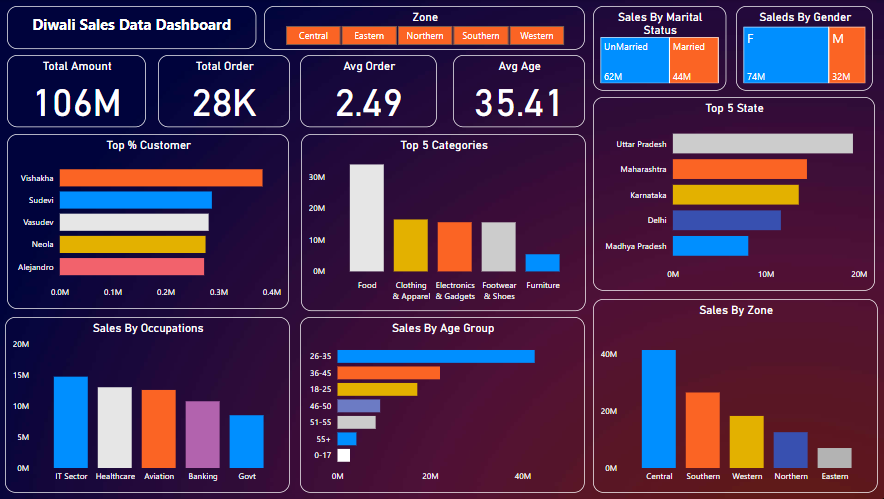

What the dashboard file says about the page in this screenshot:
{"tool":"powerbi","page":{"name":"Page 1","canvas":[1280,720],"ordinal":0},"visuals":[{"type":"clusteredColumnChart","title":"Sales By Zone","fields":{"Y":["Diwali Sales Data.Amount"],"Category":["Diwali Sales Data.Zone"]},"box":[859.7,432,410.4,279.4],"z":0},{"type":"clusteredBarChart","title":"Top 5 State","fields":{"Category":["Diwali Sales Data.State"],"Y":["Diwali Sales Data.Amount"]},"box":[859.7,141.1,406.1,279.4],"z":1000},{"type":"clusteredBarChart","title":"Sales By Age Group","fields":{"Category":["Diwali Sales Data.Age Group"],"Y":["Diwali Sales Data.Amount"]},"box":[437.8,457.9,410.4,253.4],"z":2000},{"type":"clusteredColumnChart","title":"Sales By Occupations","fields":{"Y":["Diwali Sales Data.Amount"],"Category":["Diwali Sales Data.Occupation"]},"box":[13,457.9,410.4,253.4],"z":3000},{"type":"clusteredBarChart","title":"Top % Customer","fields":{"Category":["Diwali Sales Data.Cust_name"],"Y":["Diwali Sales Data.Amount"]},"box":[15.8,194.4,406.1,252],"z":4000},{"type":"clusteredColumnChart","title":"Top 5 Categories","fields":{"Y":["Diwali Sales Data.Amount"],"Category":["Diwali Sales Data.Product_Category"]},"box":[439.2,194.4,410.4,254.9],"z":5000},{"type":"treemap","title":"Saleds By Gender","fields":{"Group":["Diwali Sales Data.Gender"],"Values":["Diwali Sales Data.Amount"]},"box":[1065.6,10.1,197.3,122.4],"z":6000},{"type":"treemap","title":"Sales By Marital Status","fields":{"Values":["Diwali Sales Data.Amount"],"Group":["Diwali Sales Data.Marital_status2"]},"box":[859.7,10,191.5,122.4],"z":7000},{"type":"textbox","box":[15.8,10.1,358.6,61.9],"z":8000},{"type":"slicer","title":"Zone","fields":{"Values":["Diwali Sales Data.Zone"]},"box":[385.9,10.1,462.2,63.4],"z":9000},{"type":"card","title":"Total Amount","fields":{"Values":["Diwali Sales Data.Amount"]},"box":[15.8,80.6,200.2,103.7],"z":10000},{"type":"card","title":"Total Order","fields":{"Values":["Diwali Sales Data.Orders"]},"box":[233.3,80.6,190.1,103.7],"z":11000},{"type":"card","title":"Avg Order","fields":{"Values":["Diwali Sales Data.Orders"]},"box":[437.8,80.6,197.3,103.7],"z":12000},{"type":"card","title":"Avg Age","fields":{"Values":["Diwali Sales Data.Age"]},"box":[658.1,80.6,190.1,103.7],"z":13000}]}

Visuals, with their boxes in screenshot pixels (x1, y1, x2, y2), scaled from the page's 1280x720 canvas onto the 884x499 screenshot:
"Sales By Zone" clusteredColumnChart: locate(594, 299, 877, 493)
"Top 5 State" clusteredBarChart: locate(594, 98, 874, 291)
"Sales By Age Group" clusteredBarChart: locate(302, 317, 586, 493)
"Sales By Occupations" clusteredColumnChart: locate(9, 317, 292, 493)
"Top % Customer" clusteredBarChart: locate(11, 135, 291, 309)
"Top 5 Categories" clusteredColumnChart: locate(303, 135, 587, 311)
"Saleds By Gender" treemap: locate(736, 7, 872, 92)
"Sales By Marital Status" treemap: locate(594, 7, 726, 92)
textbox: locate(11, 7, 259, 50)
"Zone" slicer: locate(267, 7, 586, 51)
"Total Amount" card: locate(11, 56, 149, 128)
"Total Order" card: locate(161, 56, 292, 128)
"Avg Order" card: locate(302, 56, 439, 128)
"Avg Age" card: locate(455, 56, 586, 128)
